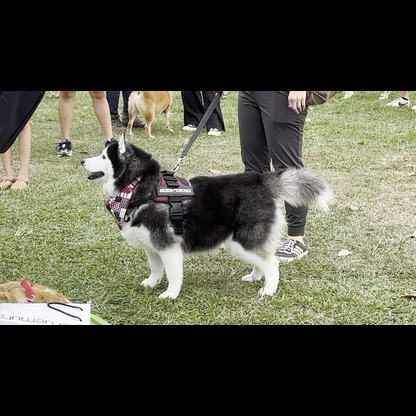husky: (78, 132, 340, 303)
